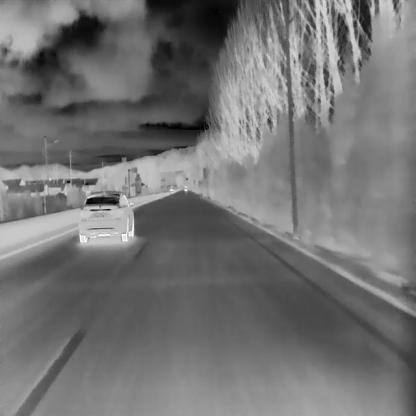car: (78, 190, 134, 242)
